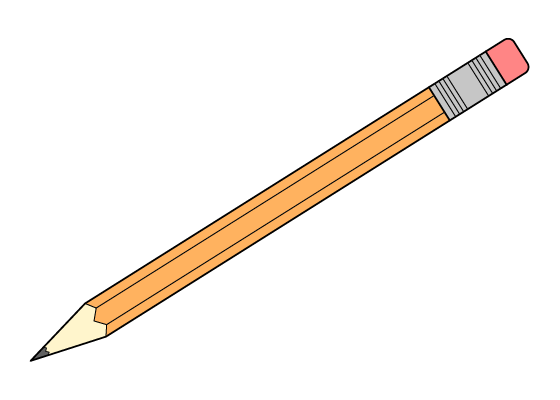pencil: (15, 20, 558, 368)
